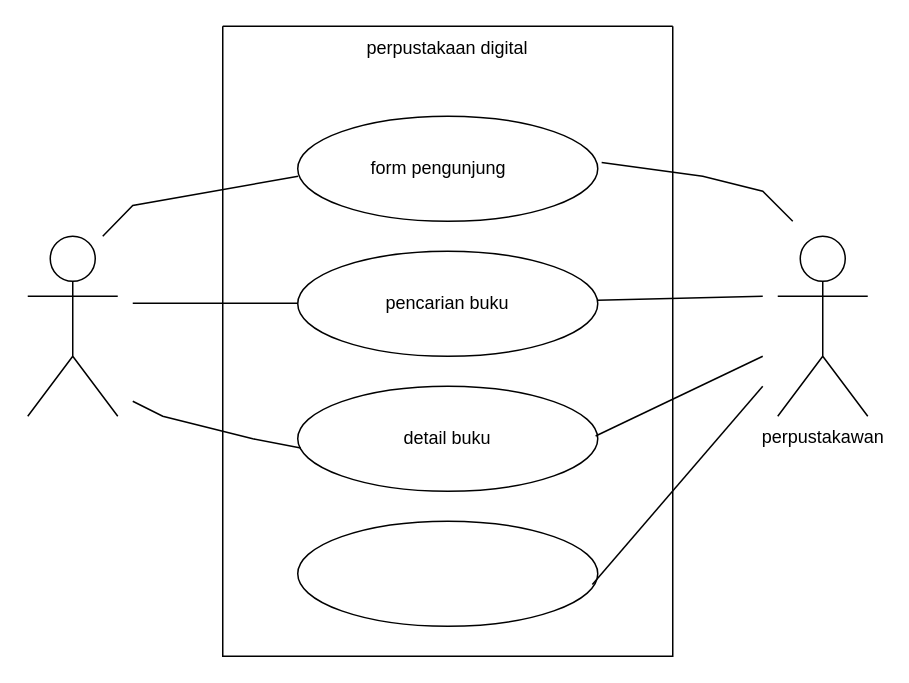
Image size: 909x683. Some labels were removed from this diagram. Each missing label, with the centre of its shape:
"laporan statistik" belongs at (x=447, y=573).
"pengunjung" belongs at (x=72, y=325).
